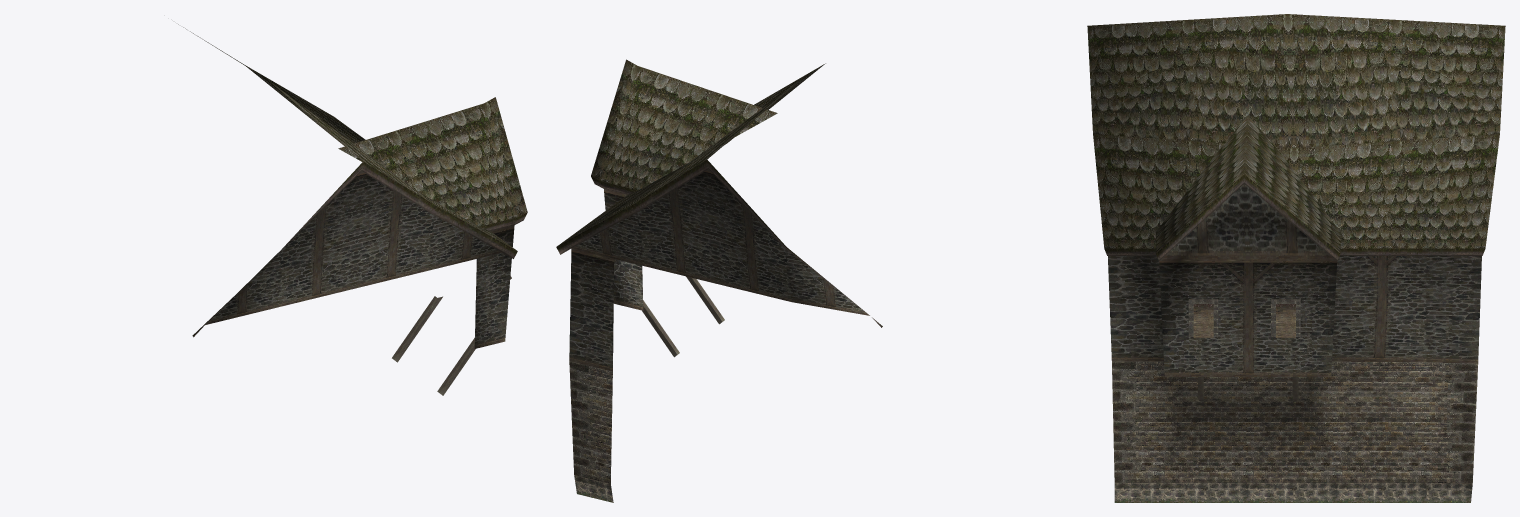
Rendered from OZ_09_kn_Lhouse01C.glb.
3 views of the same model, side by side, from view 1: azimuth 30°, elevation 25°; view 2: azimuth 150°, elevation 25°; view 3: azimuth 270°, elevation 25° (orthographic). The views are drawn at different scales.
Parts seen in each view (by area): view 1: OM_09_kn_Lhouse01C; view 2: OM_09_kn_Lhouse01C; view 3: OM_09_kn_Lhouse01C.
Boxes of the visible parts, <box> form: OM_09_kn_Lhouse01C: <box>178,24,527,395</box>; OM_09_kn_Lhouse01C: <box>556,59,882,502</box>; OM_09_kn_Lhouse01C: <box>1087,14,1505,502</box>.
Bounding box in the file's own units: 14.96 × 15.37 × 14.08.
5 materials, 5 textured.
